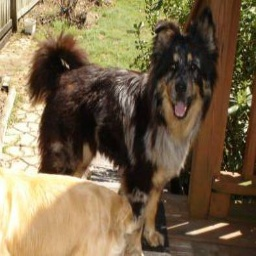dog: (36, 16, 217, 252)
